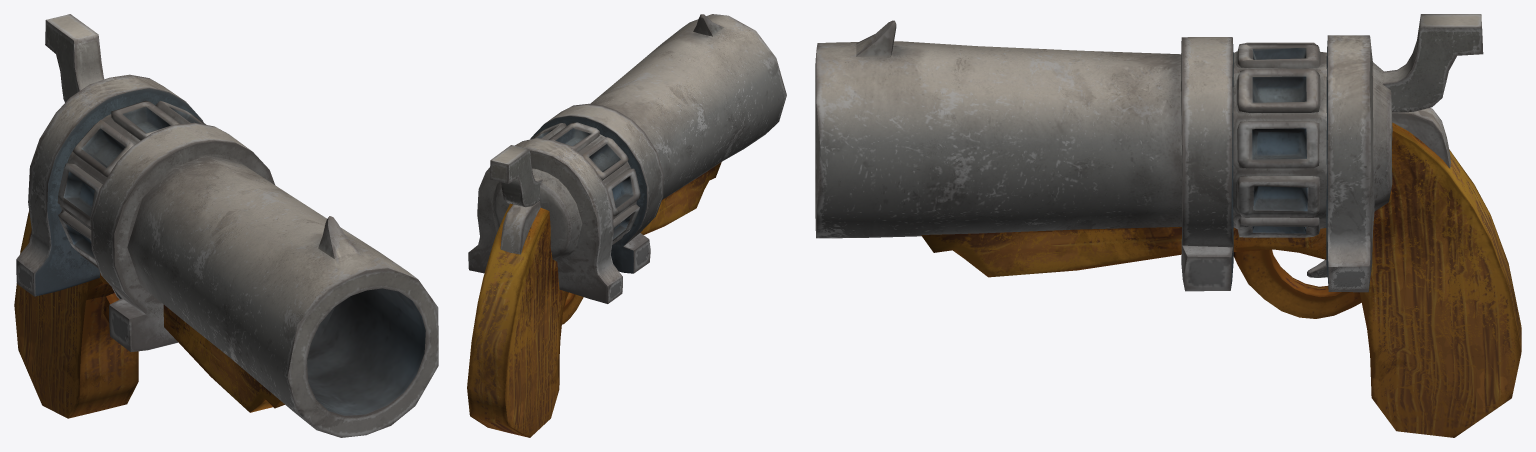
The model's file is PISTOLA UNIDA.fbx.
3 renders of one model, left to right at view 1: azimuth 30°, elevation 25°; view 2: azimuth 150°, elevation 25°; view 3: azimuth 270°, elevation 25°, orthographic. The views are drawn at different scales.
Parts seen in each view (by area): view 1: PISTOLA; view 2: PISTOLA; view 3: PISTOLA.
Boxes of the visible parts, x1=… form: PISTOLA: x1=14, y1=14, x2=438, y2=437; PISTOLA: x1=467, y1=14, x2=786, y2=437; PISTOLA: x1=815, y1=14, x2=1521, y2=437.
Size of the model in its own units: 2.87 by 5.38 by 8.54.
